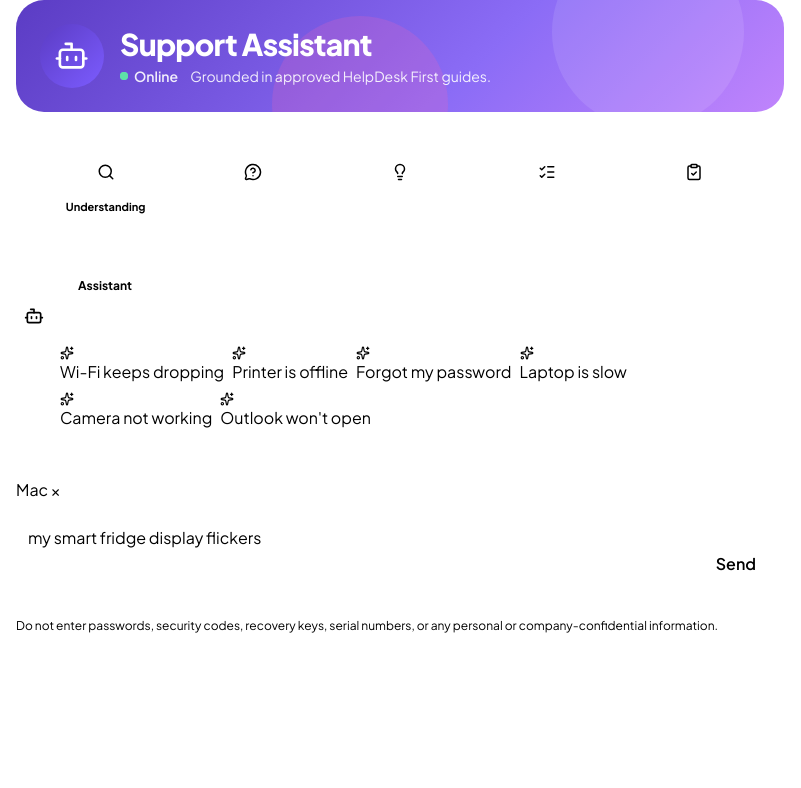
Test case: AssistantWorkspace › shows a no-match chat reply while preserving suggested guides and handoff
This screenshot has width=801, height=788.
Click the button "Send": (736, 564) [688,542,784,586]
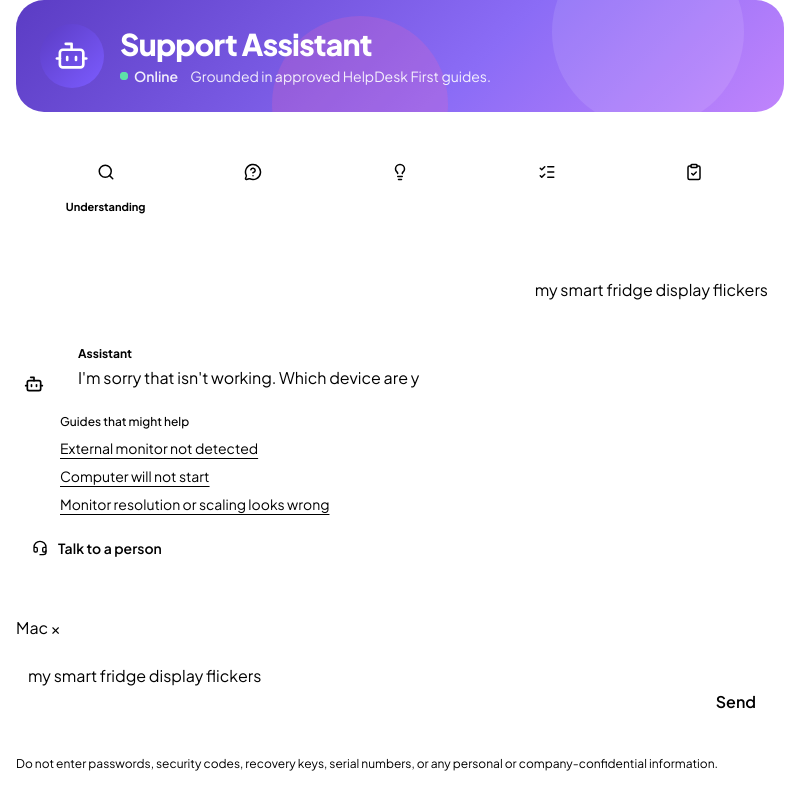
Check: the text "Guides that might help" is shown, box [60,414,189,429]
Check: the link "External monitor not detected" is shown, box [60,439,258,457]
